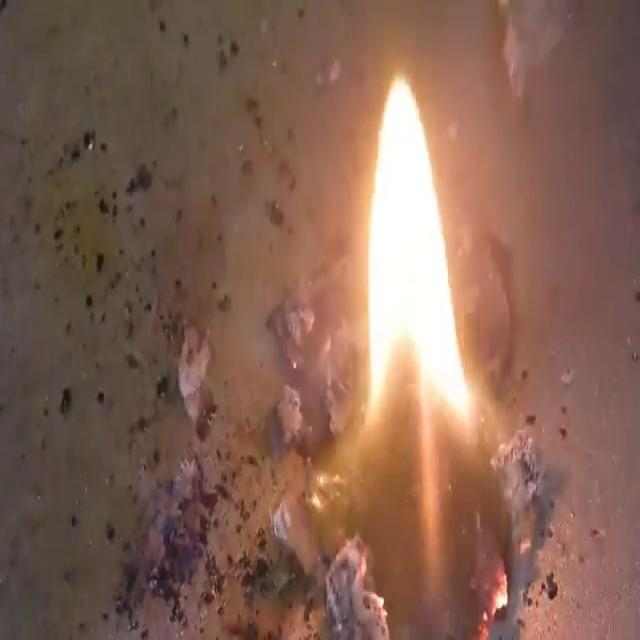Fire: (4, 4, 636, 636), (362, 68, 475, 434)
